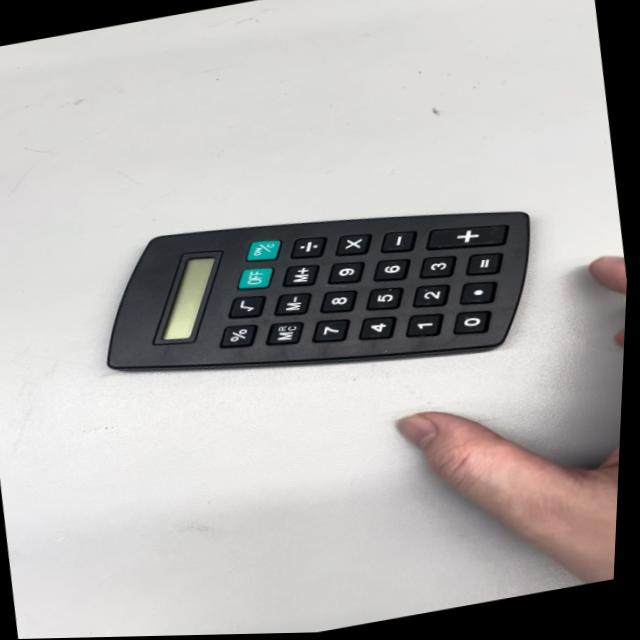calculator: (79, 161, 560, 424)
